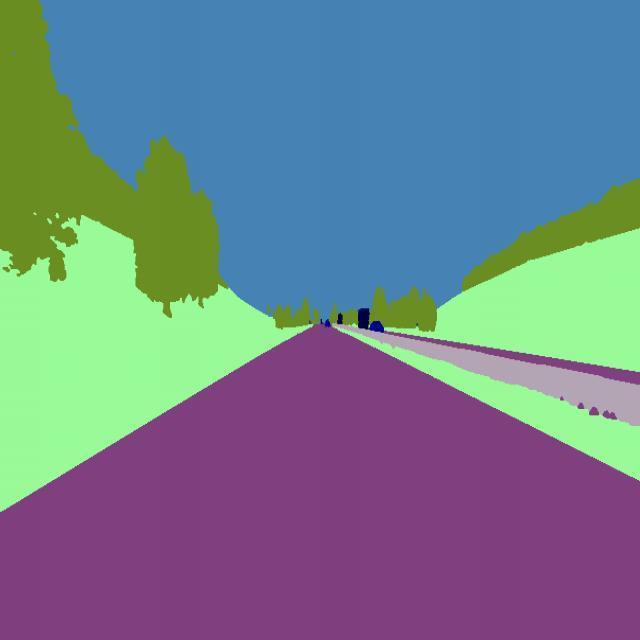safe: (354, 304, 372, 333), (366, 317, 386, 337), (322, 316, 334, 329)
